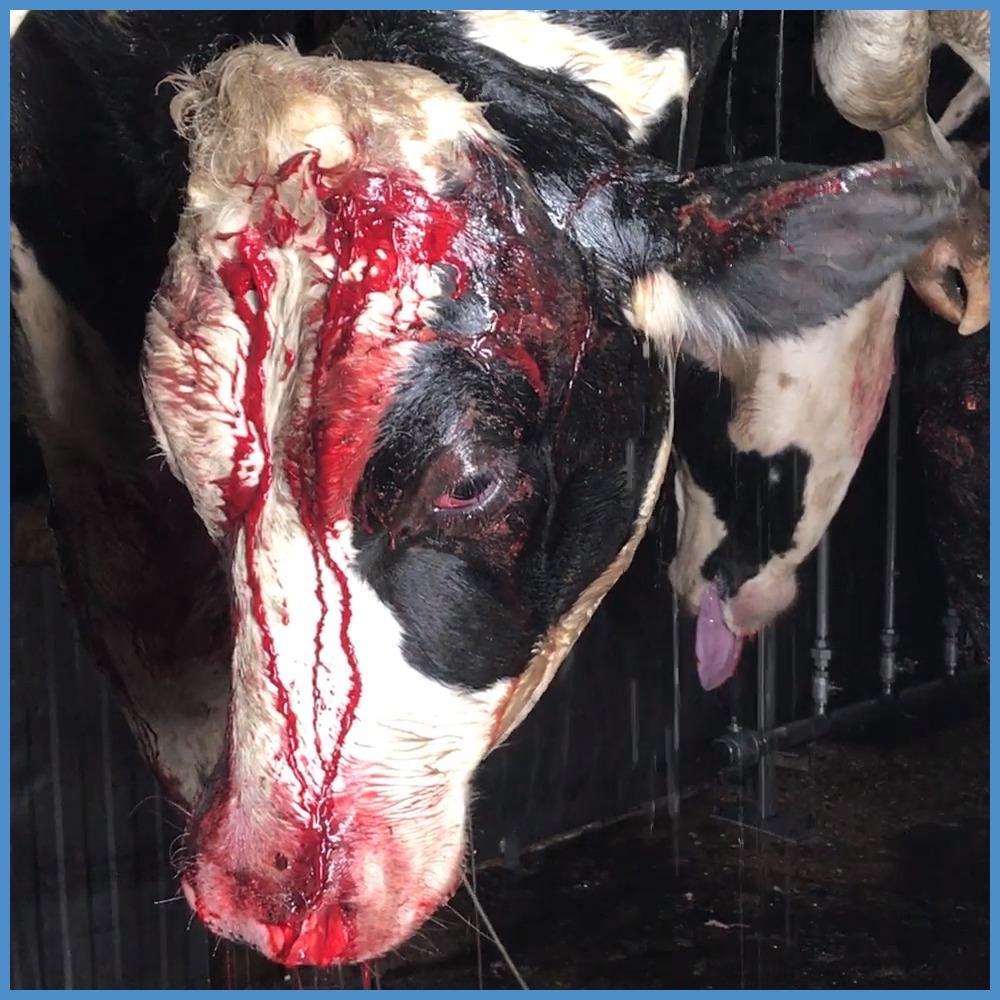bleeding: (214, 100, 452, 940)
